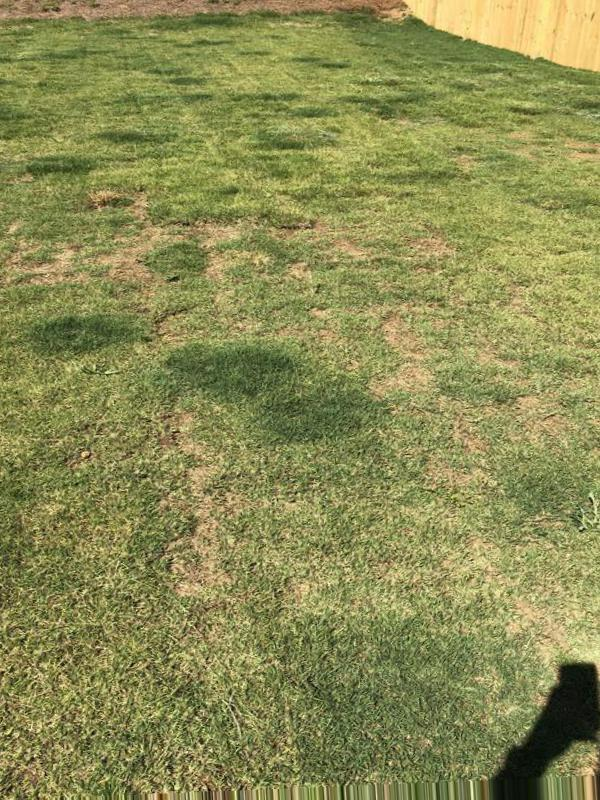patch: (84, 224, 152, 288), (399, 326, 454, 391)
